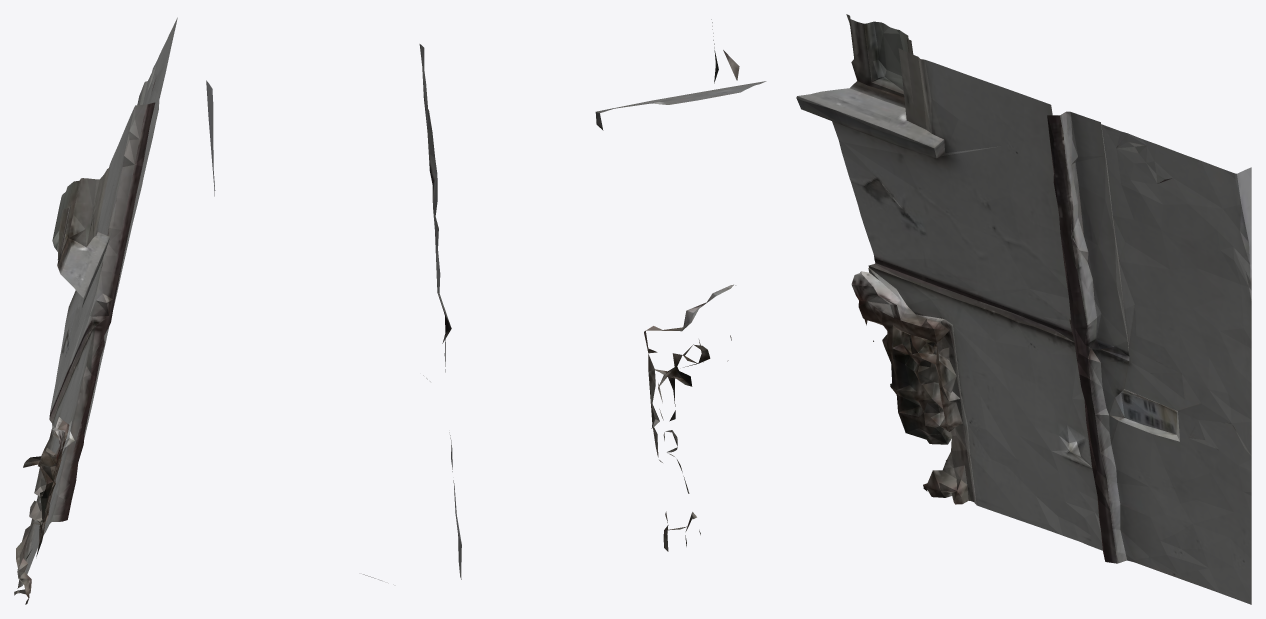
The picture shows the model from 3 angles, left to right: view 1: azimuth 30°, elevation 25°; view 2: azimuth 150°, elevation 25°; view 3: azimuth 270°, elevation 25°; orthographic projection. The views are drawn at different scales.
Size of the model in its own units: 2.38 by 3.35 by 2.87.
3 materials, 3 textured.
